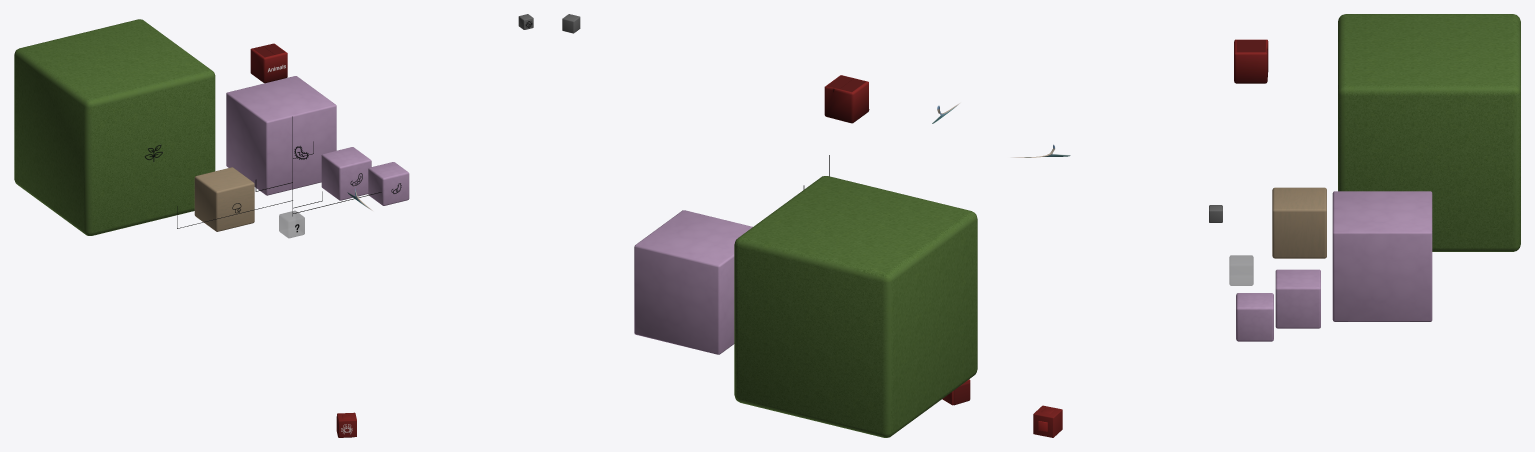
The picture shows the model from 3 angles, left to right: view 1: azimuth 30°, elevation 25°; view 2: azimuth 150°, elevation 25°; view 3: azimuth 270°, elevation 25°; orthographic projection. The views are drawn at different scales.
Parts seen in each view (by area): view 1: Plants, Bacteria, Fungi, Archaea, Protists, Animals, LUCA, Plane.001; view 2: Plants, Bacteria, Animals; view 3: Plants, Bacteria, Fungi, Archaea, Protists, Animals, LUCA, Marine Arthropods.
Boxes of the visible parts, bbox=[...] form: Plants: bbox=[14, 19, 215, 235]; Bacteria: bbox=[226, 76, 336, 195]; Fungi: bbox=[194, 167, 254, 231]; Archaea: bbox=[321, 147, 371, 200]; Protists: bbox=[368, 162, 409, 205]; Animals: bbox=[250, 43, 287, 83]; LUCA: bbox=[279, 210, 304, 238]; Plane.001: bbox=[177, 116, 381, 228]; Plants: bbox=[734, 176, 977, 437]; Bacteria: bbox=[634, 210, 752, 354]; Animals: bbox=[824, 75, 869, 123]; Plants: bbox=[1338, 14, 1520, 251]; Bacteria: bbox=[1332, 191, 1432, 321]; Fungi: bbox=[1272, 187, 1326, 258]; Archaea: bbox=[1275, 269, 1320, 328]; Protists: bbox=[1236, 293, 1273, 341]; Animals: bbox=[1234, 39, 1268, 83]; LUCA: bbox=[1229, 255, 1253, 285]; Marine Arthropods: bbox=[1033, 405, 1062, 437].
Bounding box in the file's own units: 23.18 × 18.07 × 21.57.
13 materials, 7 textured.
